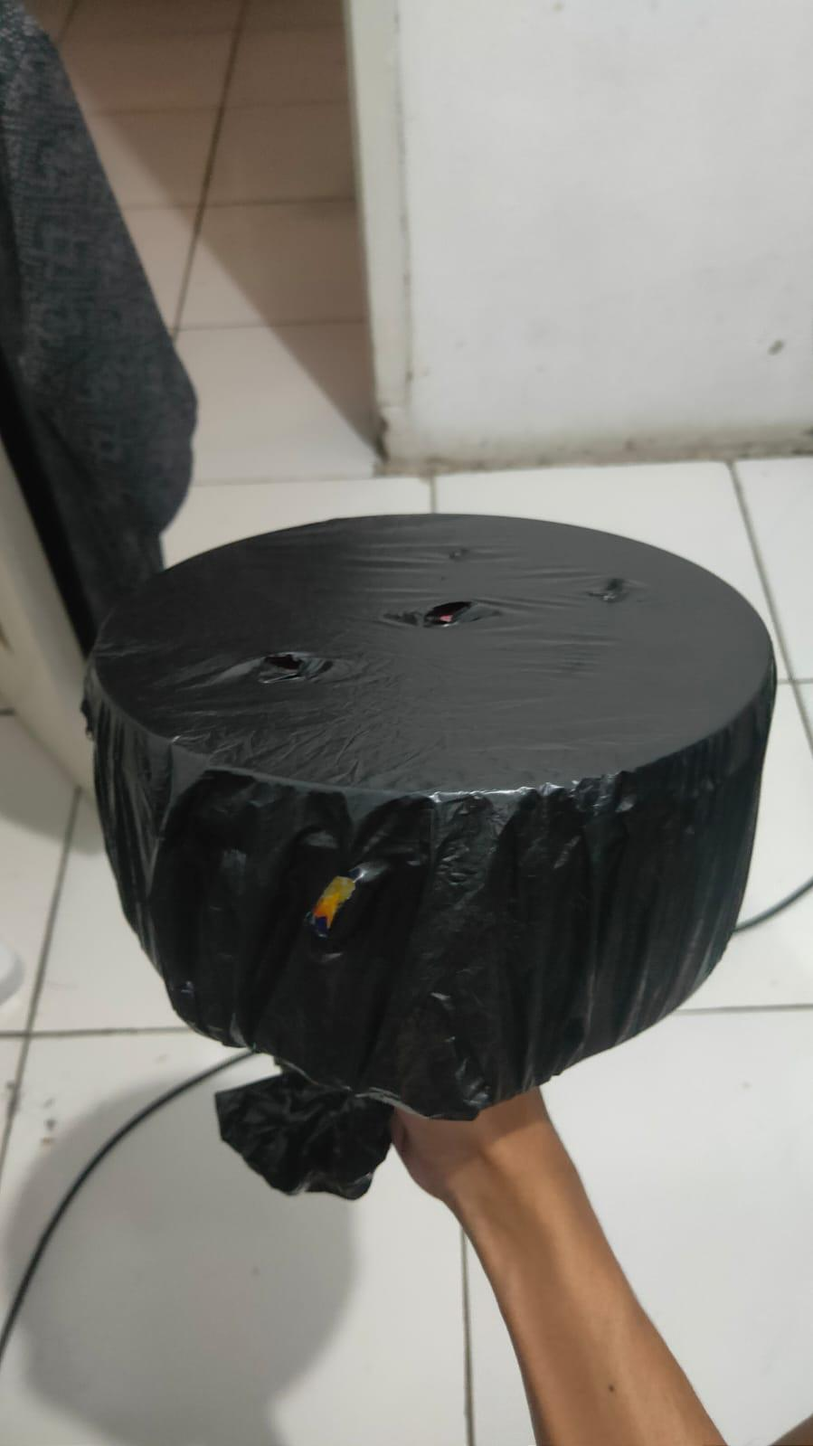damaged package: (294, 860, 368, 952), (408, 596, 481, 625), (257, 650, 309, 679), (595, 573, 631, 605), (448, 546, 467, 560)
undamaged: (67, 494, 783, 1122)
